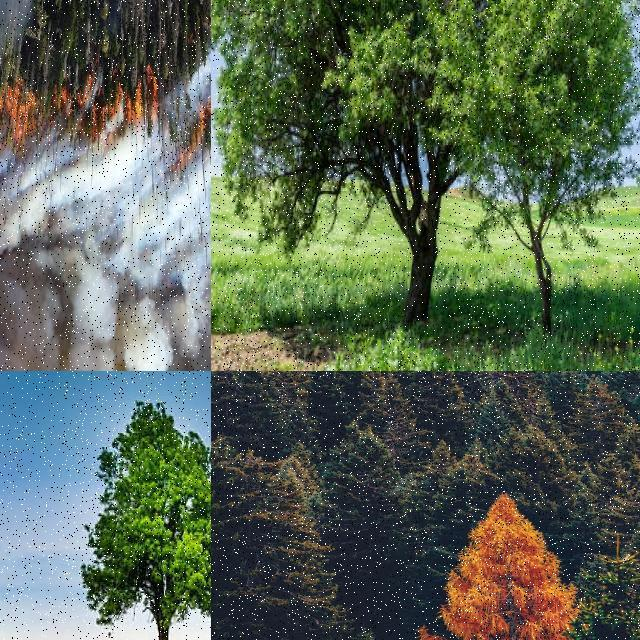tree: (211, 0, 640, 288), (420, 0, 640, 328), (77, 398, 211, 640), (420, 484, 588, 640), (430, 436, 454, 472), (568, 371, 604, 394), (0, 0, 14, 56), (65, 3, 77, 55), (612, 372, 636, 392), (353, 372, 387, 384), (199, 28, 209, 68), (0, 0, 12, 32), (37, 31, 47, 68), (56, 66, 64, 106), (211, 371, 225, 393), (183, 0, 193, 30), (100, 0, 112, 20), (212, 371, 224, 391), (100, 28, 108, 54), (77, 0, 86, 22), (0, 28, 6, 60), (67, 0, 75, 20), (101, 1, 109, 20), (0, 105, 4, 135), (70, 0, 78, 12), (108, 0, 115, 12), (55, 0, 61, 10), (1, 64, 4, 82), (58, 0, 62, 12)
